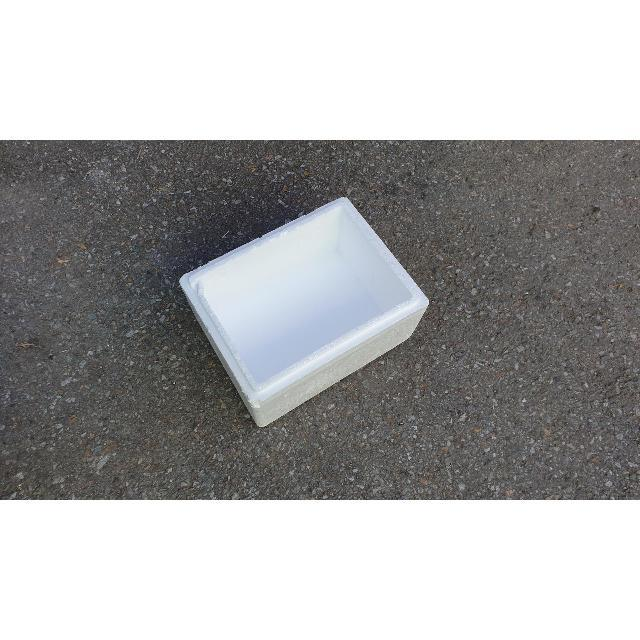Recipiente plastico: (180, 198, 429, 426)
